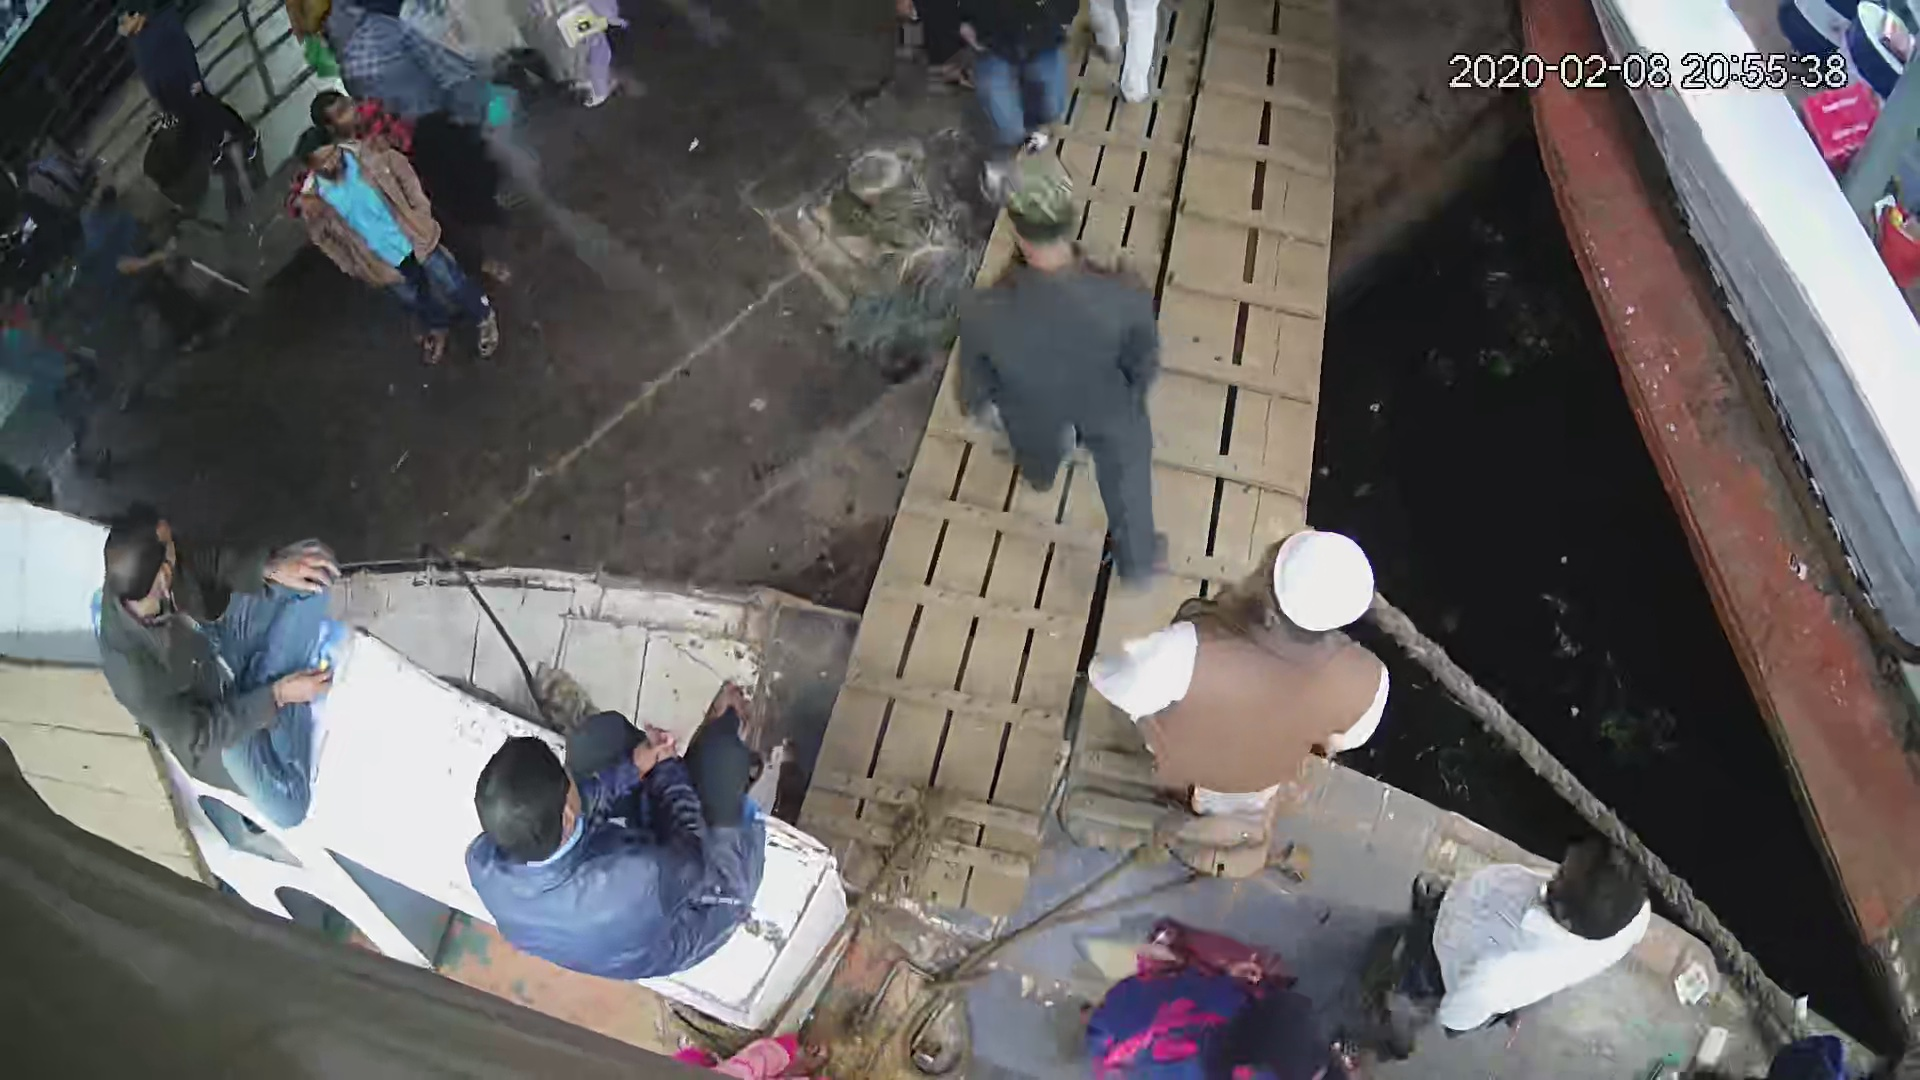person: (934, 154, 1171, 582), (1083, 528, 1398, 819), (465, 678, 763, 979), (89, 492, 333, 833), (1379, 832, 1656, 1038), (292, 121, 507, 363), (1079, 915, 1347, 1080), (112, 7, 260, 173), (942, 1, 1082, 143)
